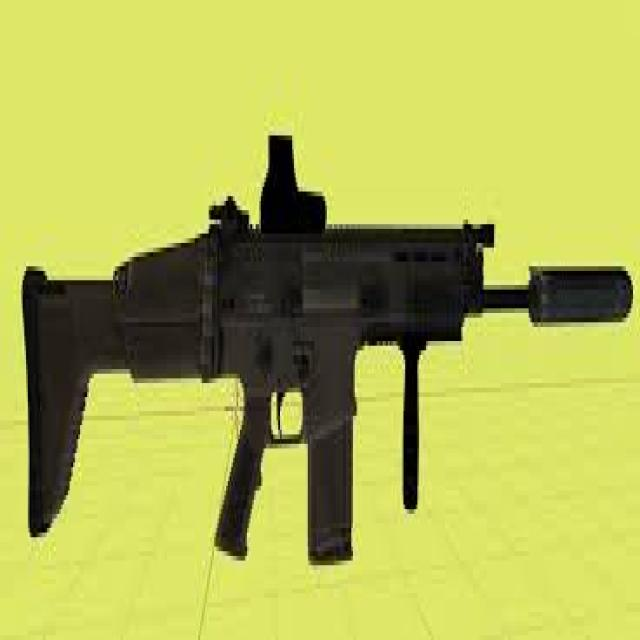Gun: (21, 117, 632, 571)
